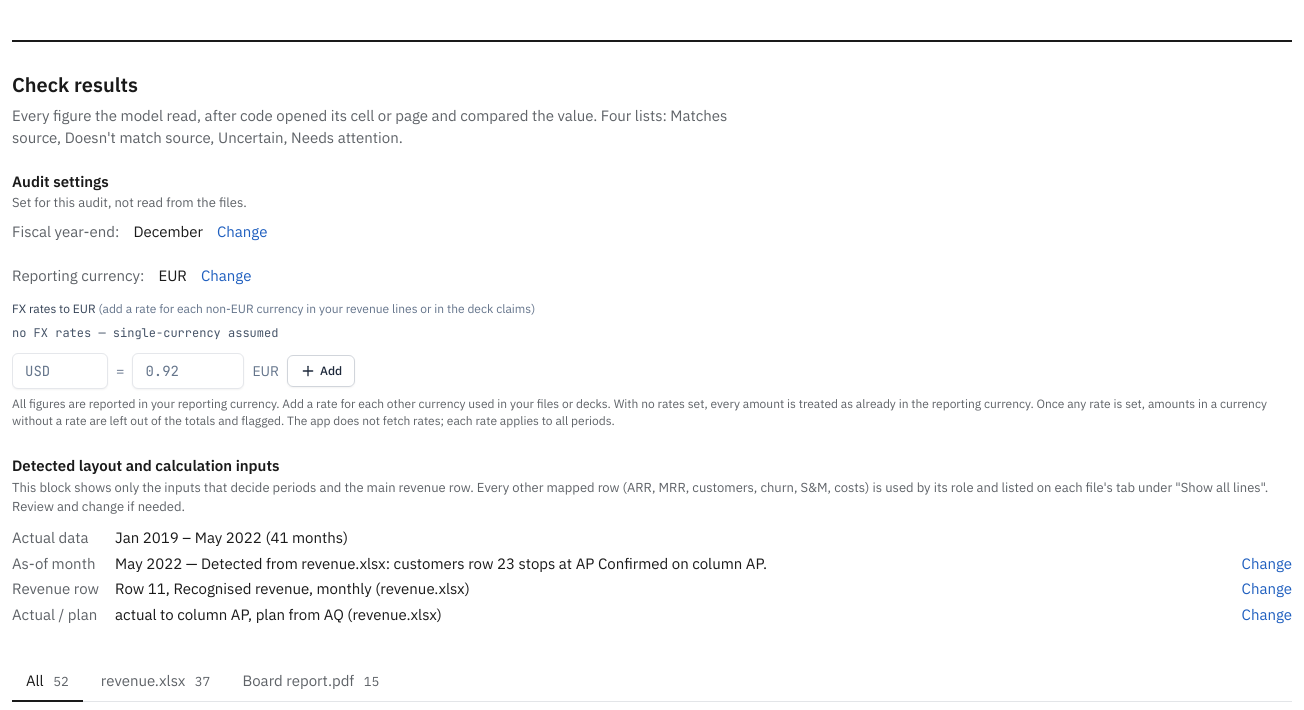
Test: the two blocks under the Check results sentence › a row-level check outcome is a note on its row in the lines table; a file-level one is a note under the summary
Click the link "revenue.xlsx 37" at (156, 680), box top-left (101, 671), bottom-right (210, 690)
(page scrolled)
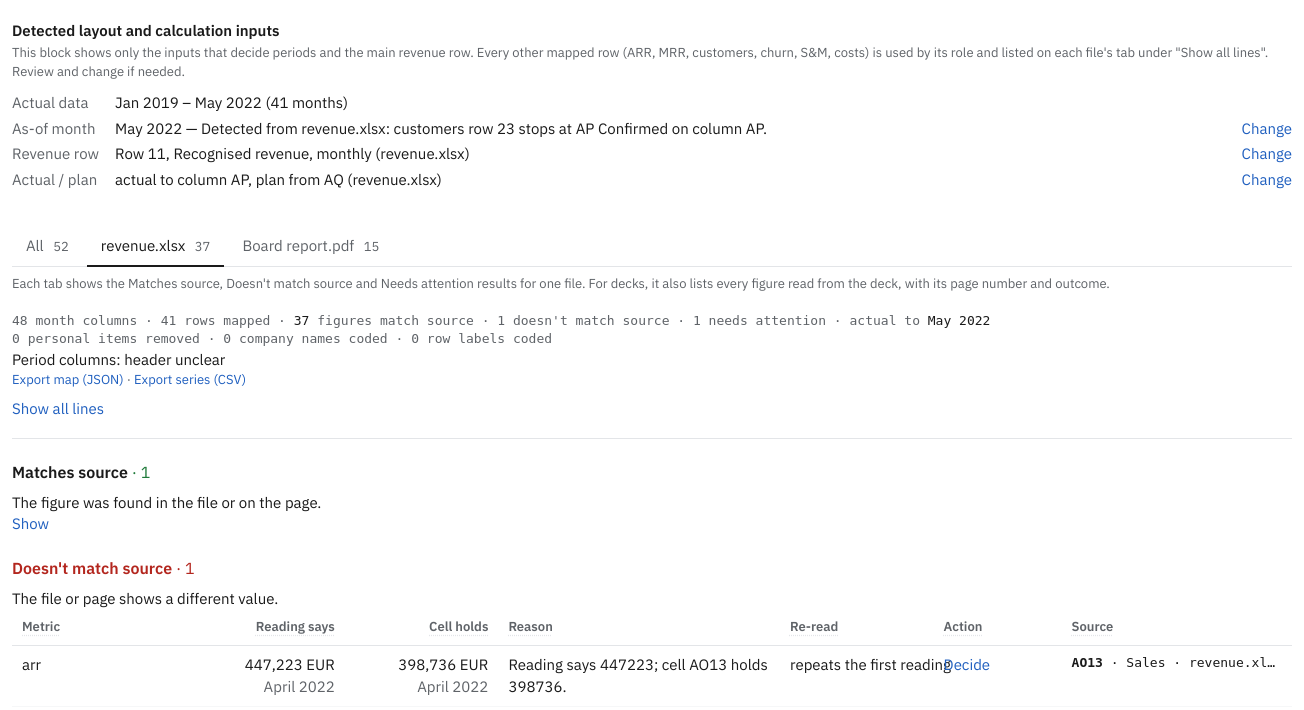
Expected: the text "Period columns: header unclear" is shown, top-left (12, 350), bottom-right (225, 369)
